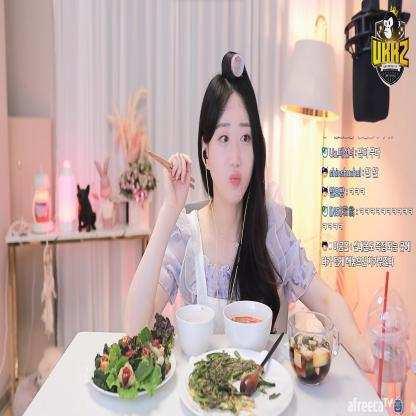streamer: (124, 50, 411, 384)
